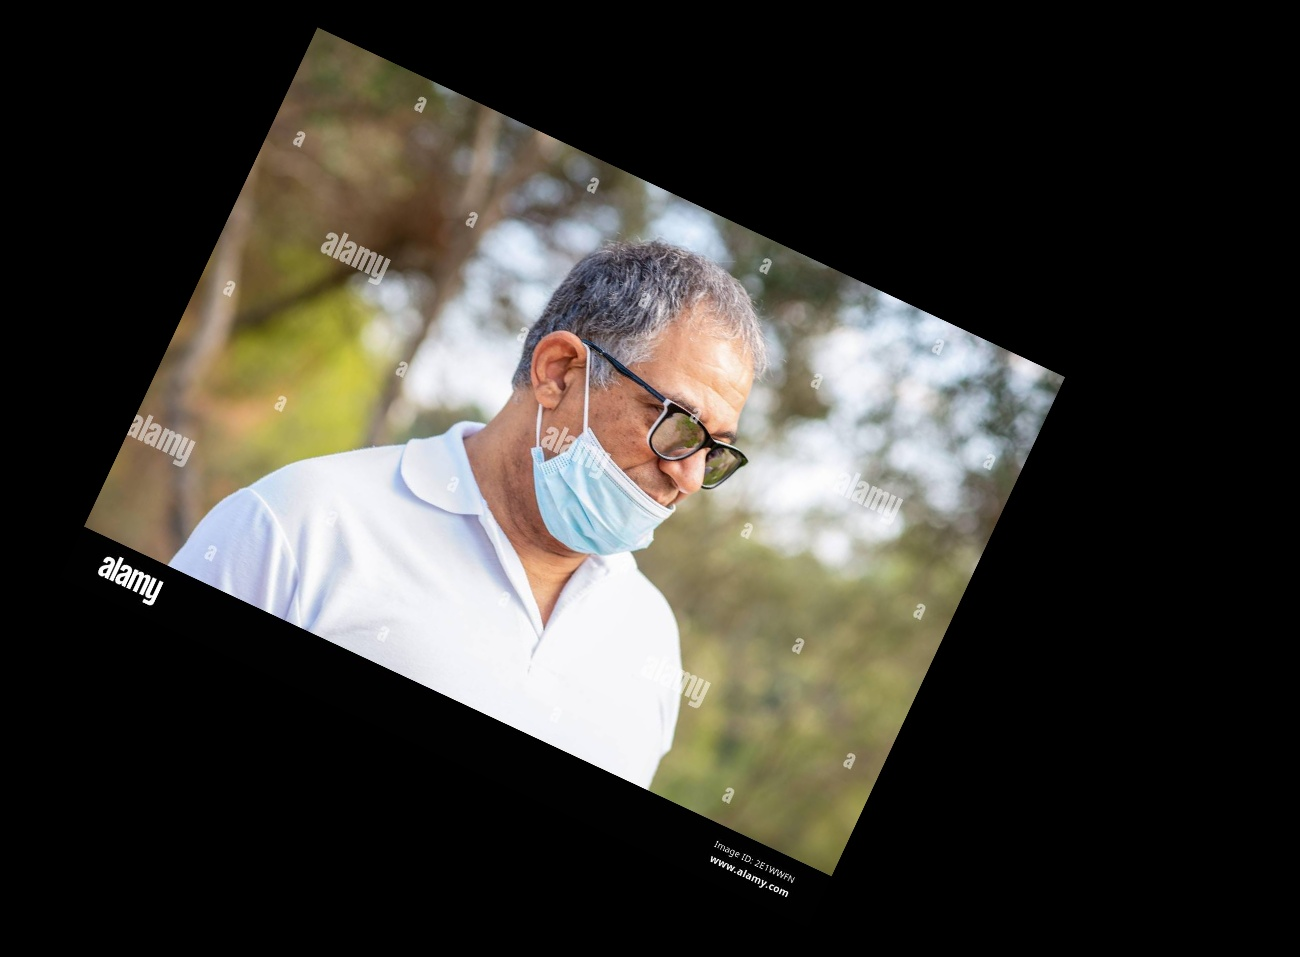mask_weared_incorrect: (523, 245, 754, 561)
